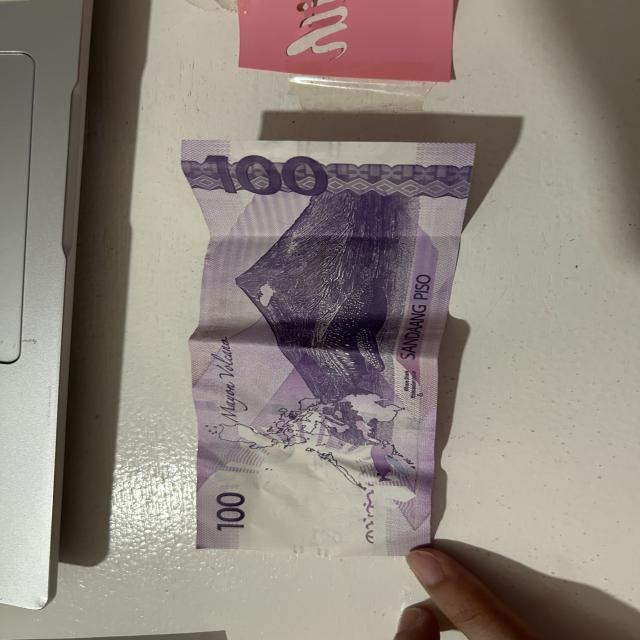100_whale: (310, 276, 386, 396)
100_whale_watermark: (366, 443, 401, 484)
value_watermark: (310, 526, 344, 545)
